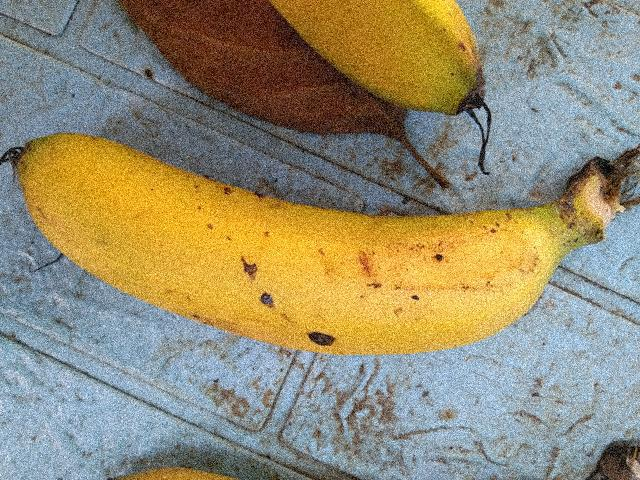ripe: (20, 115, 586, 389)
